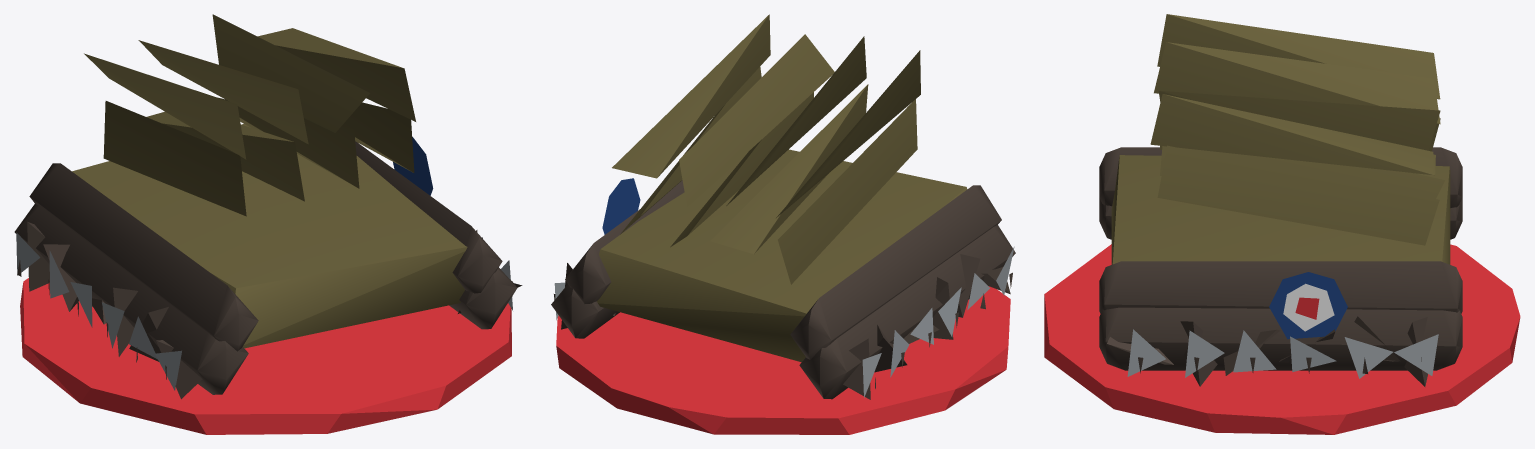
Rendered from united_kingdom_missile_lod1.glb.
3 renders of one model, left to right at view 1: azimuth 30°, elevation 25°; view 2: azimuth 150°, elevation 25°; view 3: azimuth 270°, elevation 25°, orthographic. The views are drawn at different scales.
Parts seen in each view (by area): view 1: body_hull, base_pedestal; view 2: body_hull, base_pedestal; view 3: body_hull, base_pedestal.
Boxes of the visible parts, left/top/right/bottom form: body_hull: left=14, top=14, right=522, bottom=399; base_pedestal: left=20, top=278, right=511, bottom=434; body_hull: left=551, top=14, right=1015, bottom=399; base_pedestal: left=556, top=286, right=1010, bottom=434; body_hull: left=1099, top=14, right=1462, bottom=386; base_pedestal: left=1044, top=244, right=1520, bottom=434.
Size of the model in its own units: 0.7751 by 0.5032 by 0.7751.
